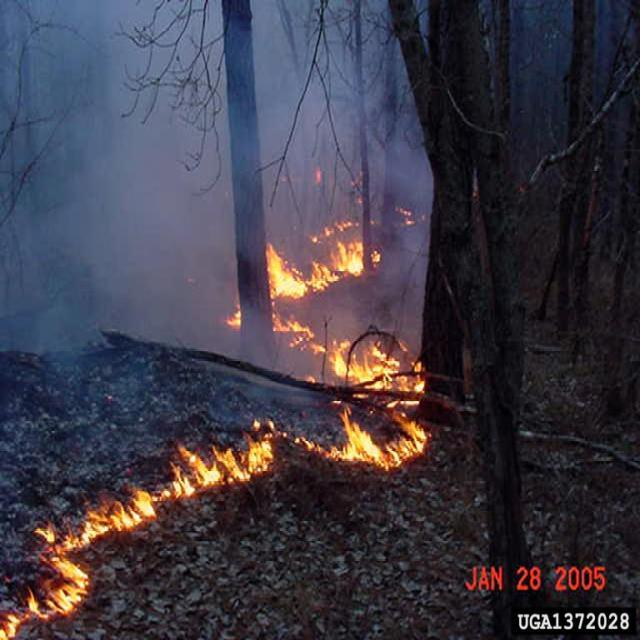Fire: (0, 239, 428, 640)
